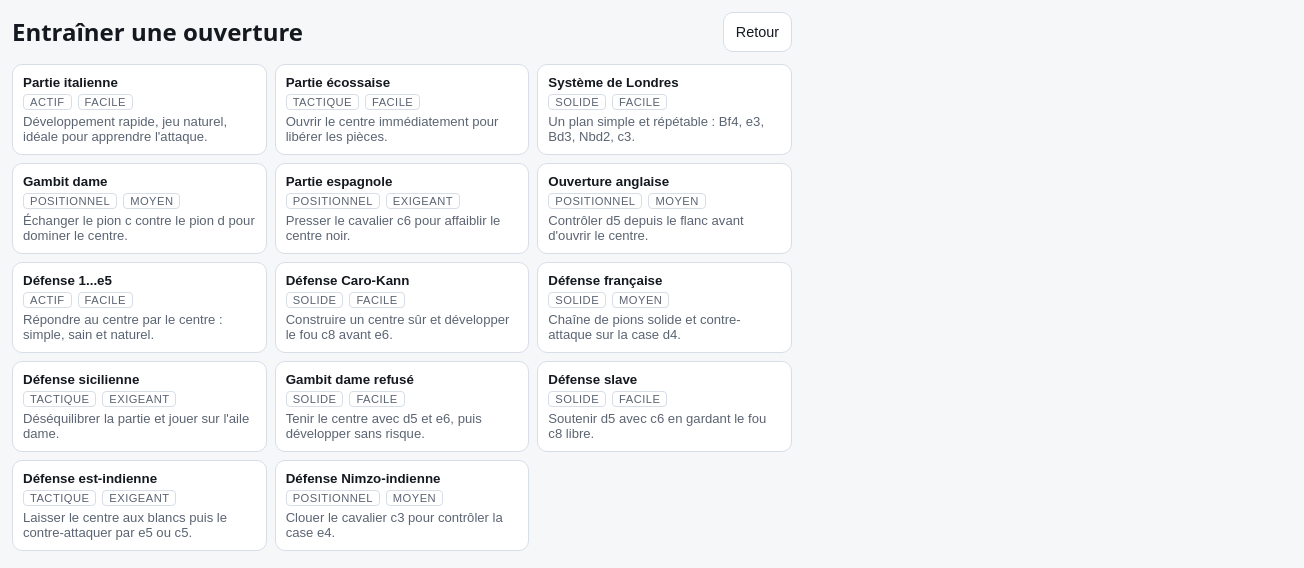
entrainement d’ouverture : coup theorique › oublie le coup revele en passant a l’exercice suivant
Click the button "Partie italienne".
click(139, 110)  # box x1=12 y1=64 x2=267 y2=155
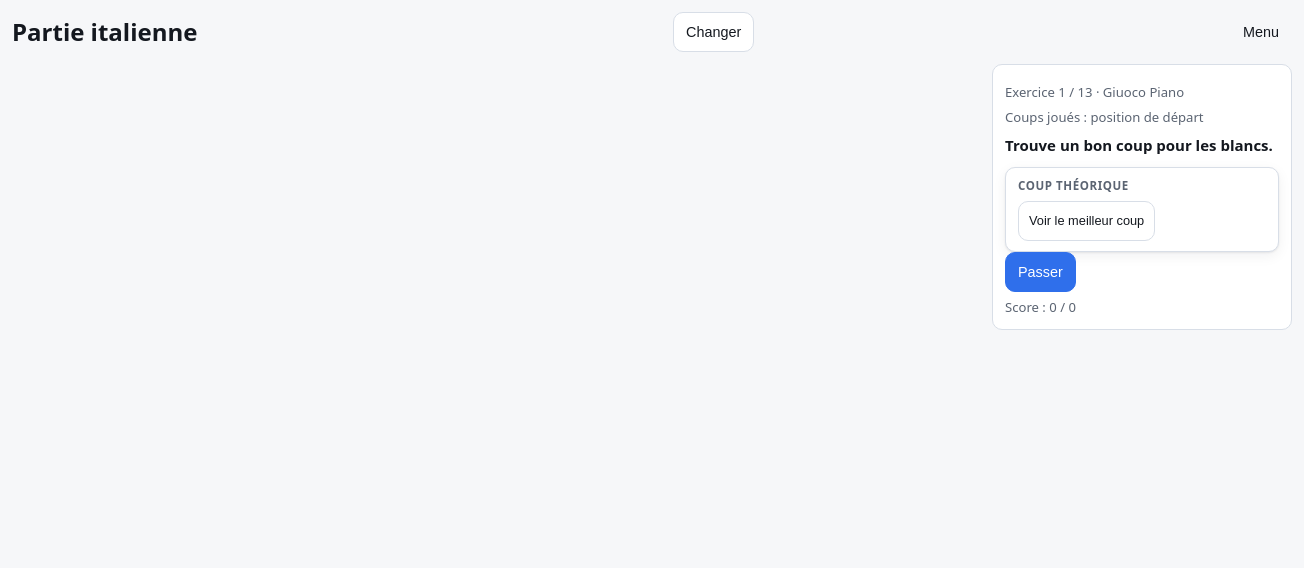
Click the button with test id "show-best-move".
click(1087, 220)  # box x1=1018 y1=200 x2=1155 y2=240
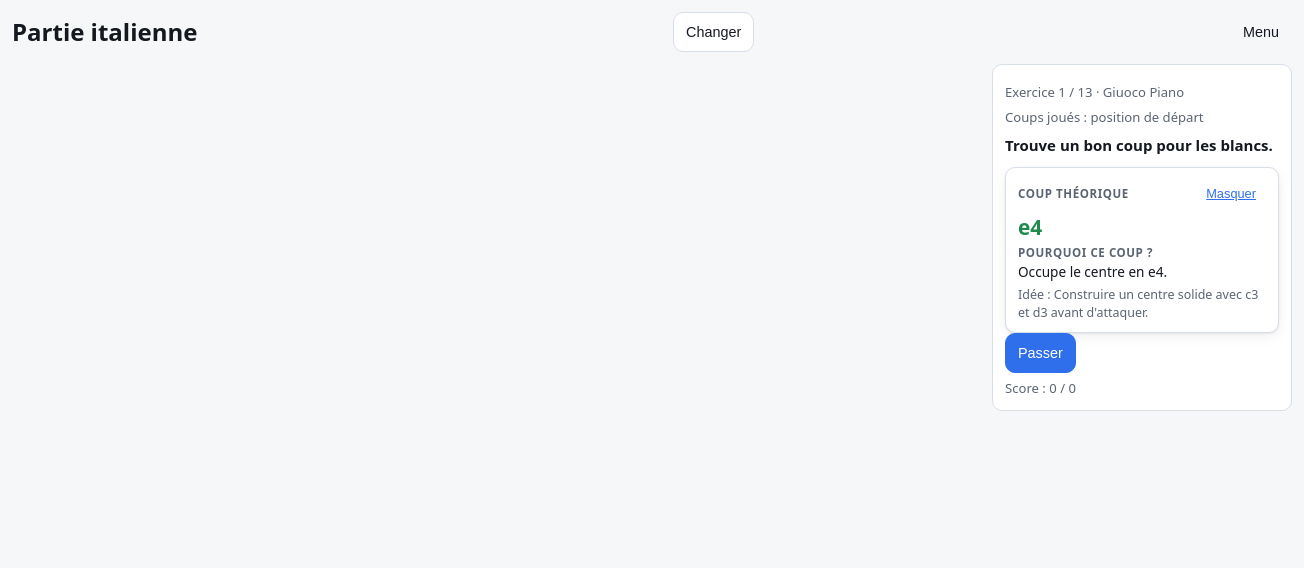
Result: the element with test id "best-move-detail" is shown at x1=1018 y1=216 x2=1266 y2=322
Click the button "Passer".
click(1040, 353)  # box x1=1005 y1=333 x2=1076 y2=373
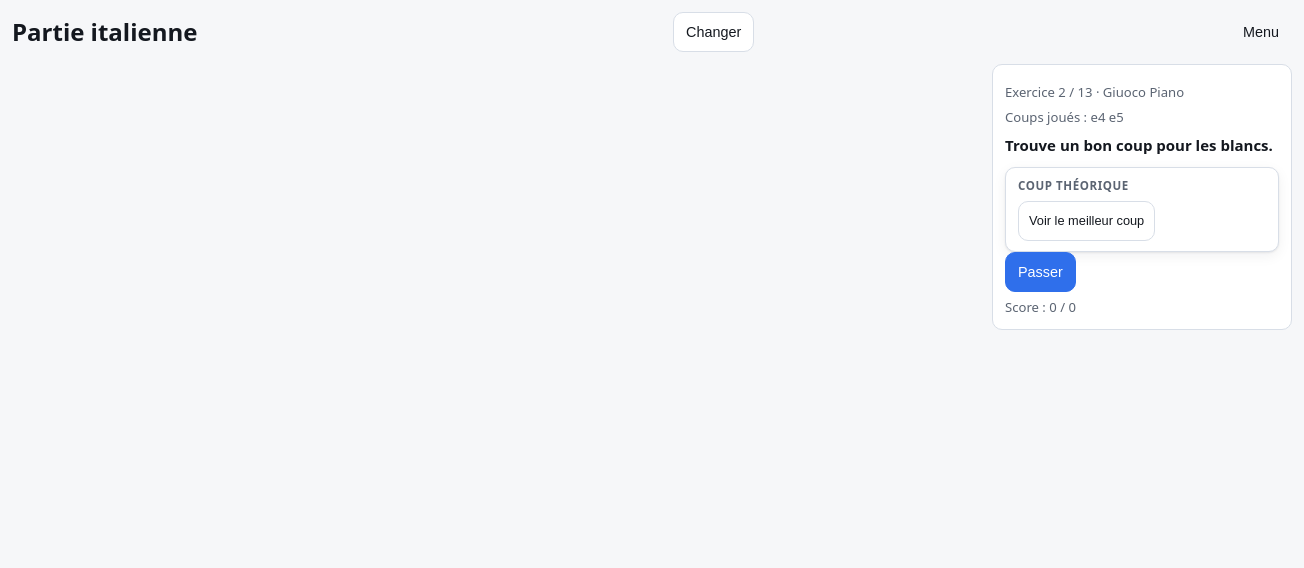
Result: the element with test id "best-move-detail" is gone
